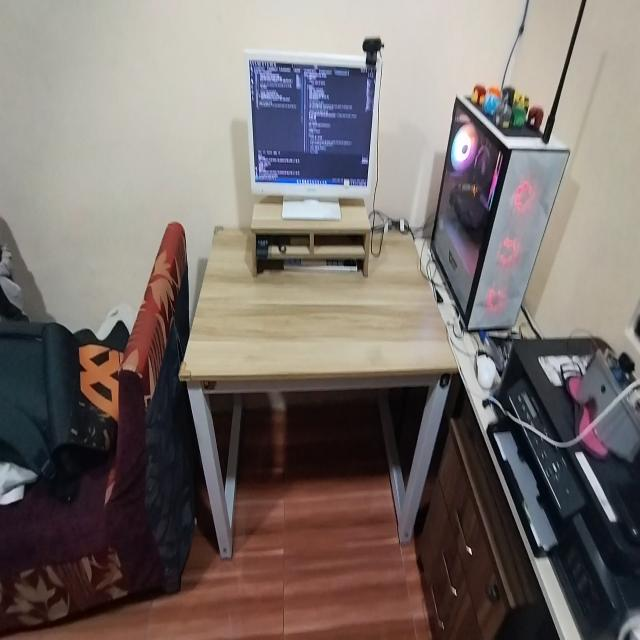table: (179, 218, 457, 566)
